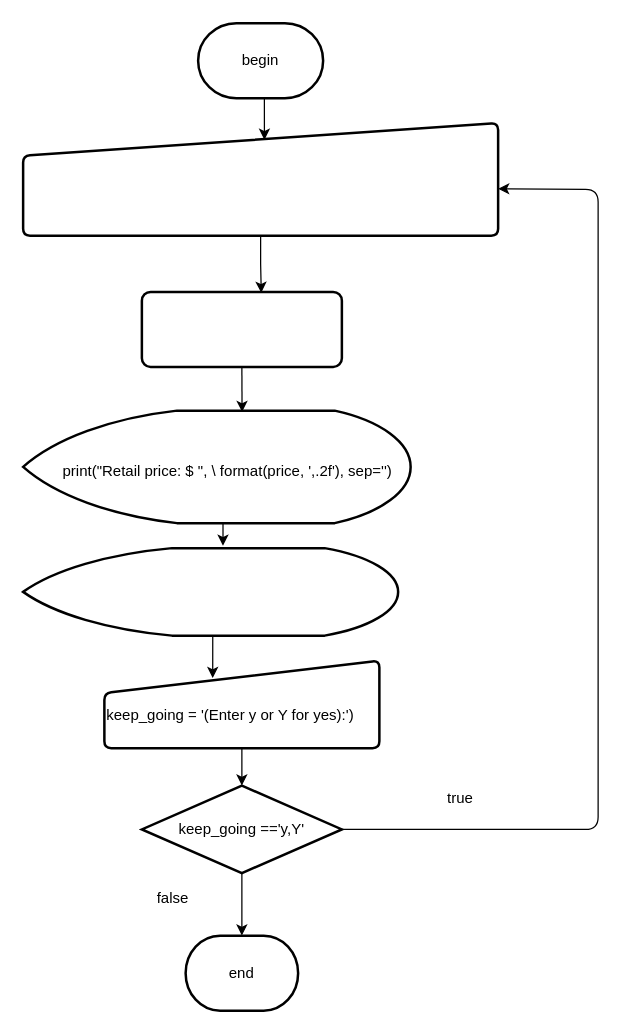
This 630x1033 diagram has some shape labels left out. Here are the shapes that lost their labels. From the top down, the box of each, then its label:
(21, 121, 499, 236): wholesale = float(input('Enter the item'+'s'' wholesale cost : '))
(140, 290, 342, 368): price = wholesale * 2.5
(21, 546, 399, 636): print("Do you have another item ?")
